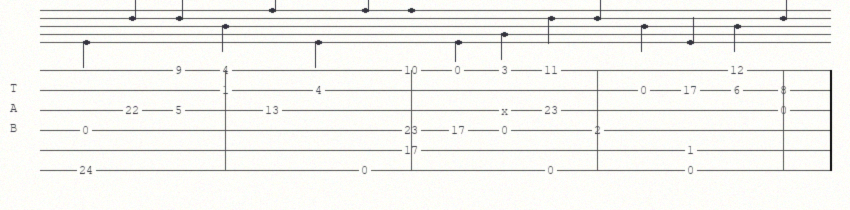0: (82, 124, 93, 136), (361, 164, 372, 176), (454, 64, 465, 76), (501, 124, 512, 136), (547, 164, 558, 176), (640, 84, 651, 96), (687, 164, 698, 176), (780, 104, 791, 116)
1: (222, 84, 233, 96), (687, 144, 698, 156)
10: (404, 64, 422, 76)
11: (544, 64, 562, 76)
12: (730, 64, 748, 76)
13: (265, 104, 283, 116)
17: (404, 144, 422, 156), (451, 124, 469, 136), (683, 84, 701, 96)
2: (594, 124, 605, 136)
22: (125, 104, 143, 116)
23: (404, 124, 422, 136), (544, 104, 562, 116)
24: (79, 164, 97, 176)
3: (501, 64, 512, 76)
4: (222, 64, 233, 76), (315, 84, 326, 96)
5: (175, 104, 186, 116)
6: (733, 84, 744, 96)
8: (780, 84, 791, 96)
9: (175, 64, 186, 76)
x: (501, 105, 512, 115)
